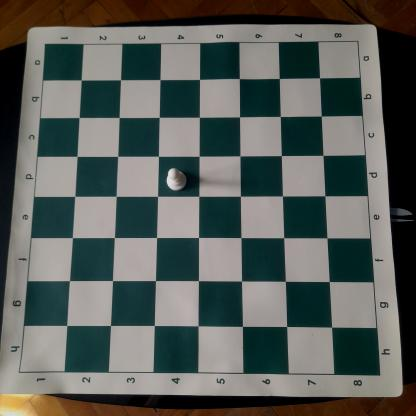white-pawn: (165, 168, 190, 192)
